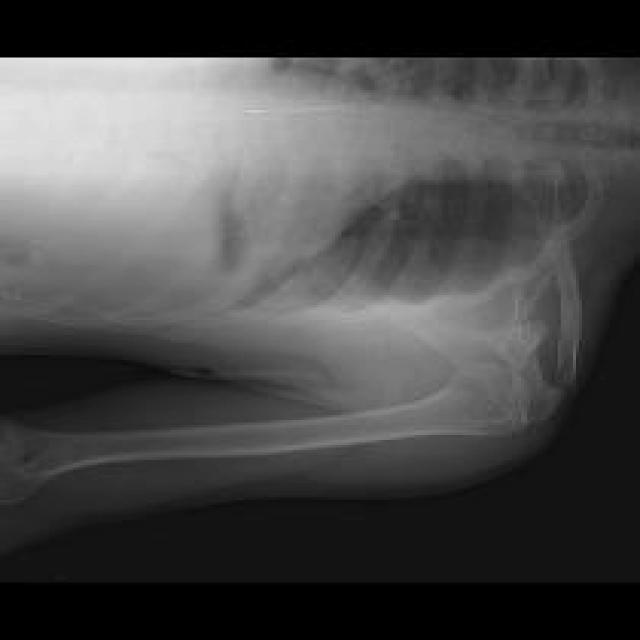normal: (3, 240, 582, 499)
